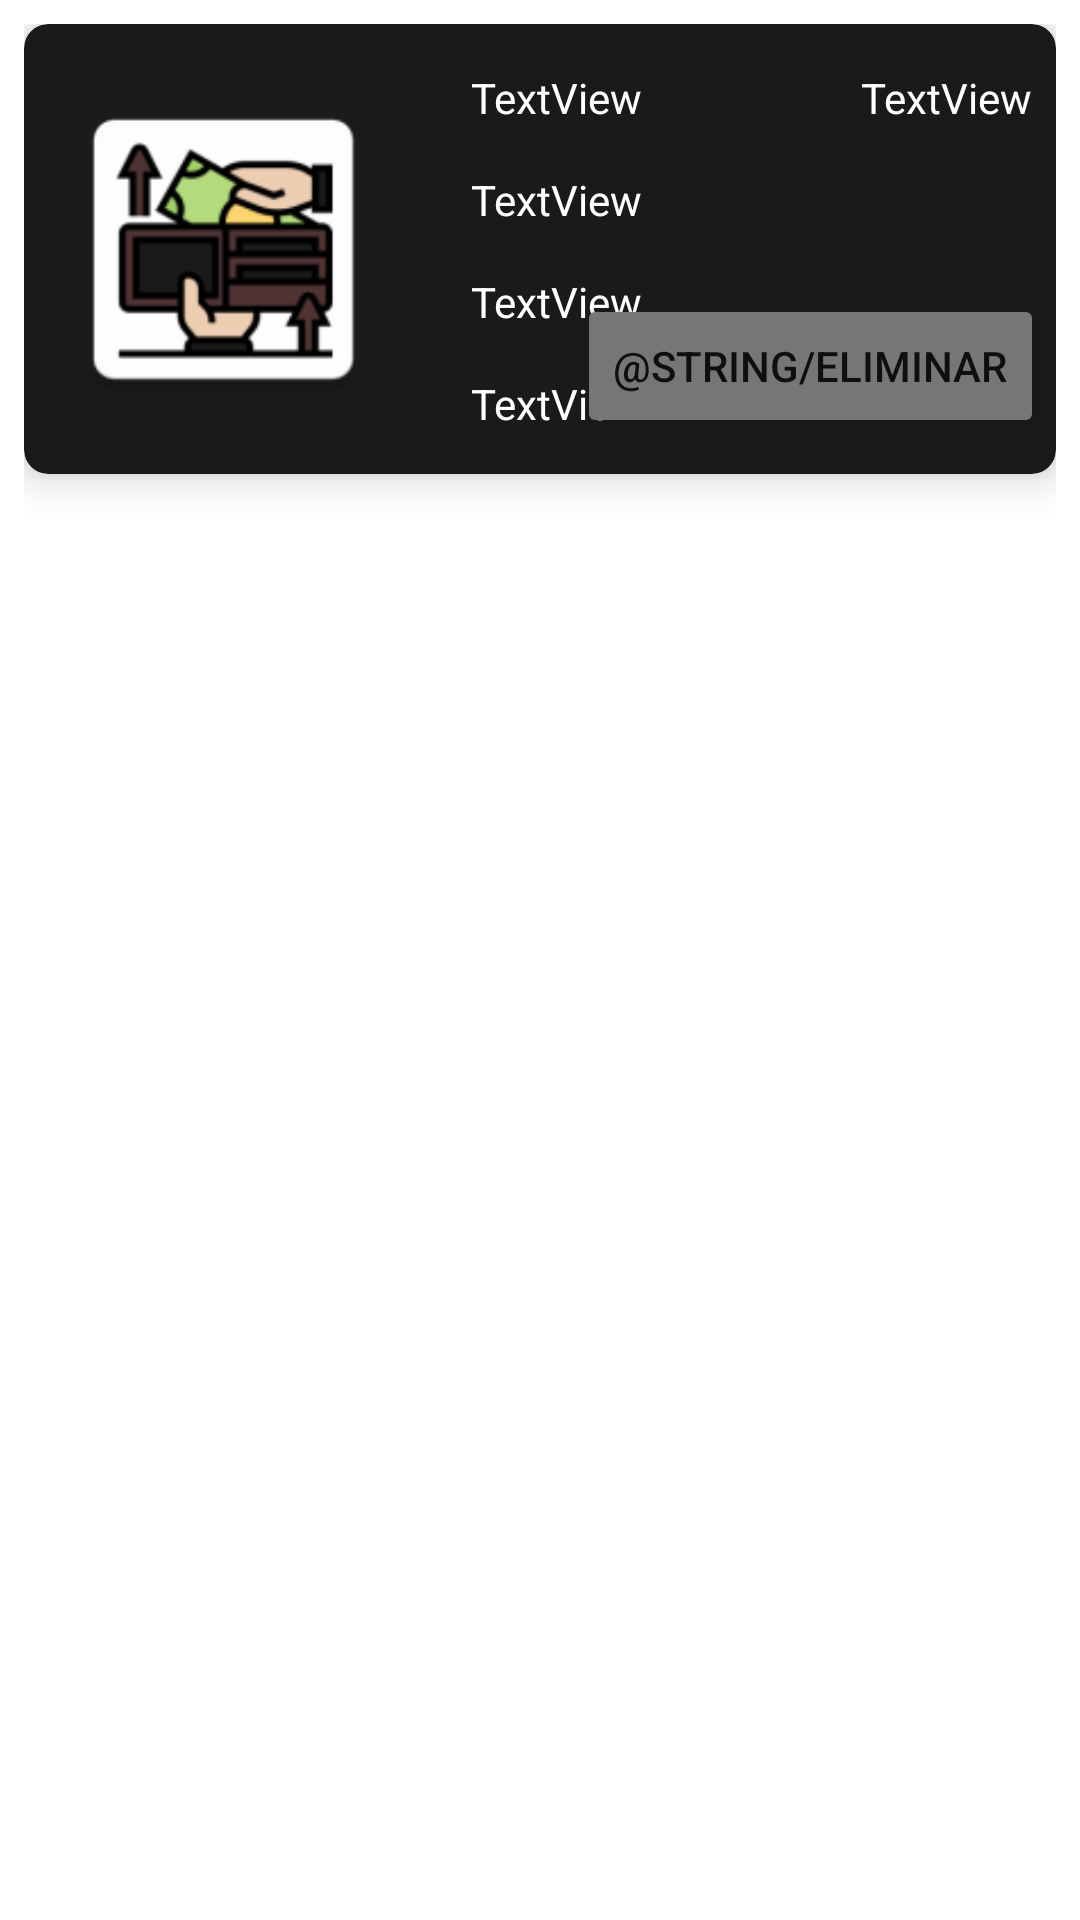

Named icons in this screenshot (1080px×1920px) and their centers, (x=x, y=y):
saliente: (x=223, y=249)
